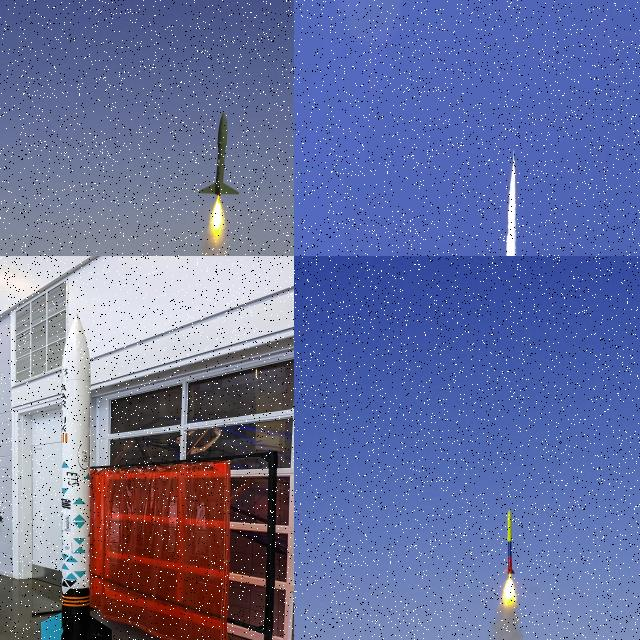Rocket: (41, 313, 112, 640), (198, 111, 239, 196), (504, 509, 514, 575), (512, 148, 516, 163)
